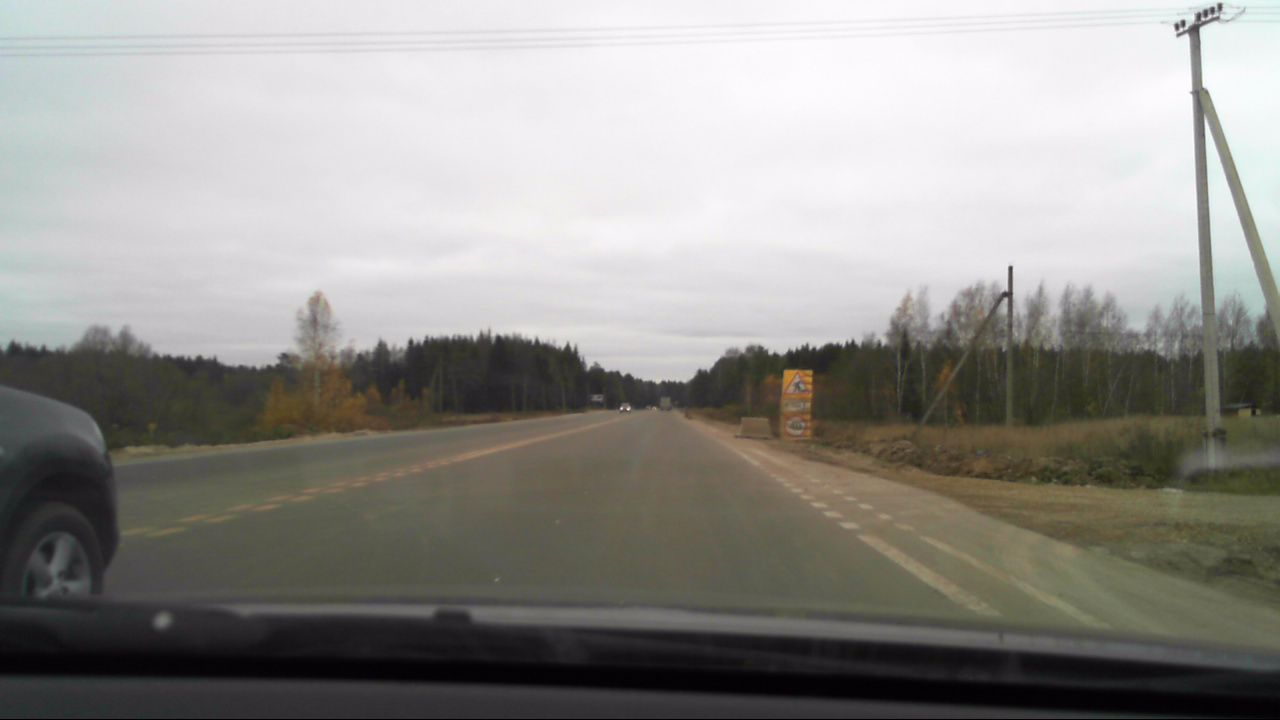speed_warning_40: (782, 417, 803, 436)
